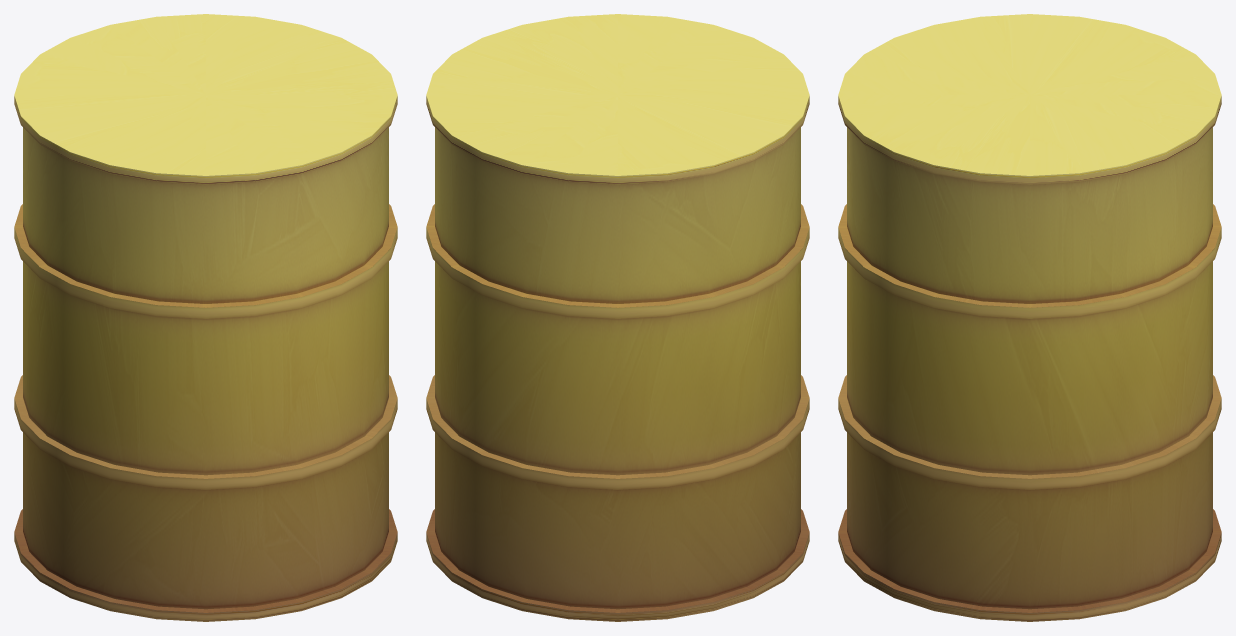
The model's file is MetalBarrel.fbx.
The picture shows the model from 3 angles, left to right: view 1: azimuth 30°, elevation 25°; view 2: azimuth 150°, elevation 25°; view 3: azimuth 270°, elevation 25°; orthographic projection.
Parts seen in each view (by area): view 1: Tonel; view 2: Tonel; view 3: Tonel.
Part boxes in pixels (x1,y1,x2,y2): Tonel: (14,14,397,621); Tonel: (426,14,809,621); Tonel: (838,14,1221,621).
Size of the model in its own units: 0.933 by 1.2 by 0.933.
1 material, 1 textured.
